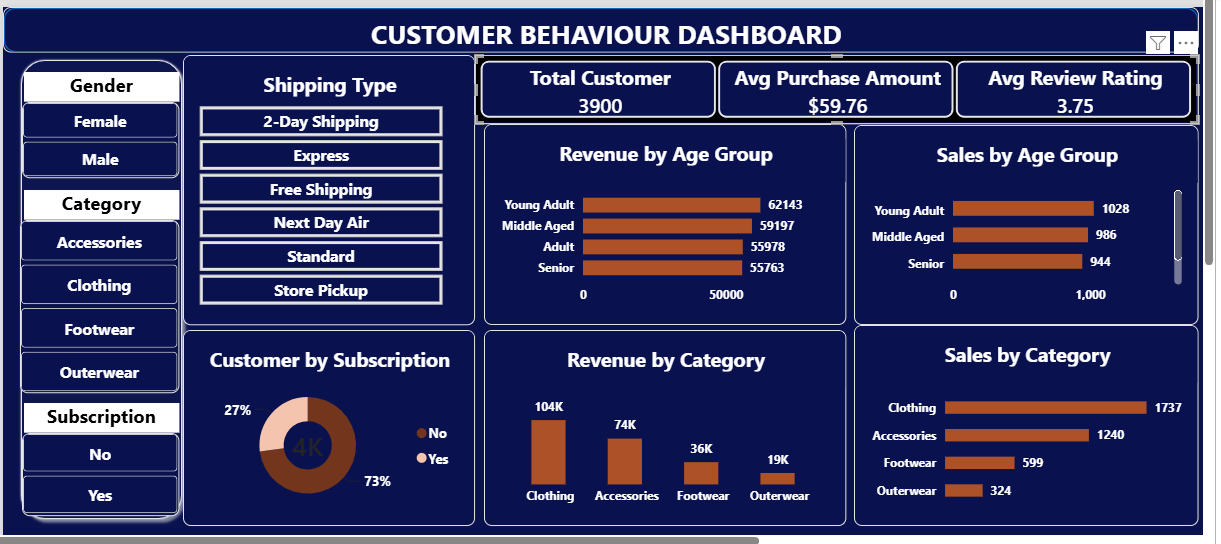

The dashboard page shown, as its layout file describes it:
{"tool":"powerbi","page":{"name":"Page 1","canvas":[1920,1080],"ordinal":0},"visuals":[{"type":"shape","box":[11.1,46.5,176.8,477.8],"z":0},{"type":"cardVisual","fields":{"Data":["cleaned_data.total_customer","cleaned_data.avg_purchase_amount","cleaned_data.avg_review_rating"]},"box":[476.8,48.5,731.3,69.7],"z":1000},{"type":"shape","box":[0,0,1208.1,46.5],"z":2000},{"type":"textbox","box":[11.1,8.1,1197,38.4],"z":3000},{"type":"donutChart","title":"Customer by Subscription","fields":{"Category":["cleaned_data.subscription_status"],"Y":["cleaned_data.total_customer"]},"box":[181.8,326.3,294.9,198],"z":4000},{"type":"clusteredColumnChart","title":"Revenue by Category","fields":{"Category":["cleaned_data.category"],"Y":["Sum(cleaned_data.purchased_amount)"]},"box":[485.9,326.3,365.7,198],"z":5000},{"type":"barChart","title":"Sales by Category","fields":{"Category":["cleaned_data.category"],"Y":["CountNonNull(cleaned_data.customer_id)"]},"box":[859.6,321.2,348.5,203],"z":6000},{"type":"advancedSlicerVisual","fields":{"Values":["cleaned_data.subscription_status"]},"box":[19.2,430.3,158.6,83.8],"z":7000},{"type":"advancedSlicerVisual","fields":{"Values":["cleaned_data.gender"]},"box":[19.2,96,158.6,76.8],"z":8000},{"type":"advancedSlicerVisual","fields":{"Values":["cleaned_data.category"]},"box":[17.2,215.2,160.6,174.7],"z":9000},{"type":"listSlicer","title":"Shipping Type","fields":{"Values":["cleaned_data.shipping_type"]},"box":[181.8,48.5,294.9,272.7],"z":10000},{"type":"clusteredBarChart","title":"Revenue by Age Group","fields":{"Category":["cleaned_data.age_group"],"Y":["Sum(cleaned_data.purchased_amount)"]},"box":[485.9,118.2,365.7,203],"z":11000},{"type":"clusteredBarChart","title":"Sales by Age Group","fields":{"Category":["cleaned_data.age_group"],"Y":["CountNonNull(cleaned_data.customer_id)"]},"box":[859.6,119.2,348.5,202],"z":12000},{"type":"textbox","box":[21.2,65.7,156.6,30.3],"z":12001},{"type":"textbox","box":[21.2,184.8,156.6,30.3],"z":12002},{"type":"textbox","box":[21.2,400,156.6,30.3],"z":12003}]}

Visuals, with their boxes on the page's 1920x1080 design canvas (x1, y1, x2, y2). These are canvas units, not pixel positions in the 1221x544 screenshot, which may show the page scaled, cropped or inside an application window:
shape: 11, 46, 188, 524
cardVisual - cleaned_data.total_customer x cleaned_data.avg_purchase_amount: 477, 48, 1208, 118
shape: 0, 0, 1208, 46
textbox: 11, 8, 1208, 46
"Customer by Subscription" donutChart: 182, 326, 477, 524
"Revenue by Category" clusteredColumnChart: 486, 326, 852, 524
"Sales by Category" barChart: 860, 321, 1208, 524
advancedSlicerVisual - cleaned_data.subscription_status: 19, 430, 178, 514
advancedSlicerVisual - cleaned_data.gender: 19, 96, 178, 173
advancedSlicerVisual - cleaned_data.category: 17, 215, 178, 390
"Shipping Type" listSlicer: 182, 48, 477, 321
"Revenue by Age Group" clusteredBarChart: 486, 118, 852, 321
"Sales by Age Group" clusteredBarChart: 860, 119, 1208, 321
textbox: 21, 66, 178, 96
textbox: 21, 185, 178, 215
textbox: 21, 400, 178, 430
